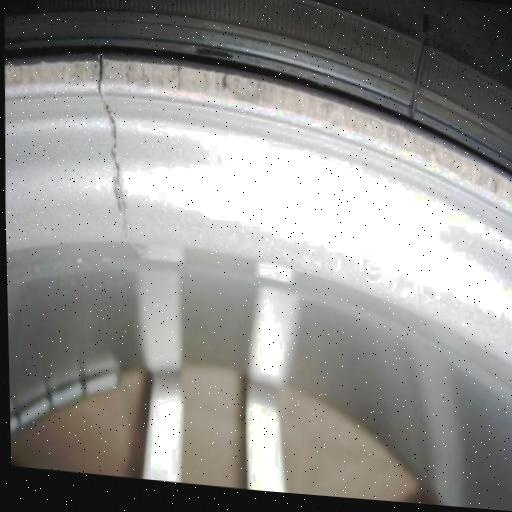crack: (83, 45, 151, 249)
